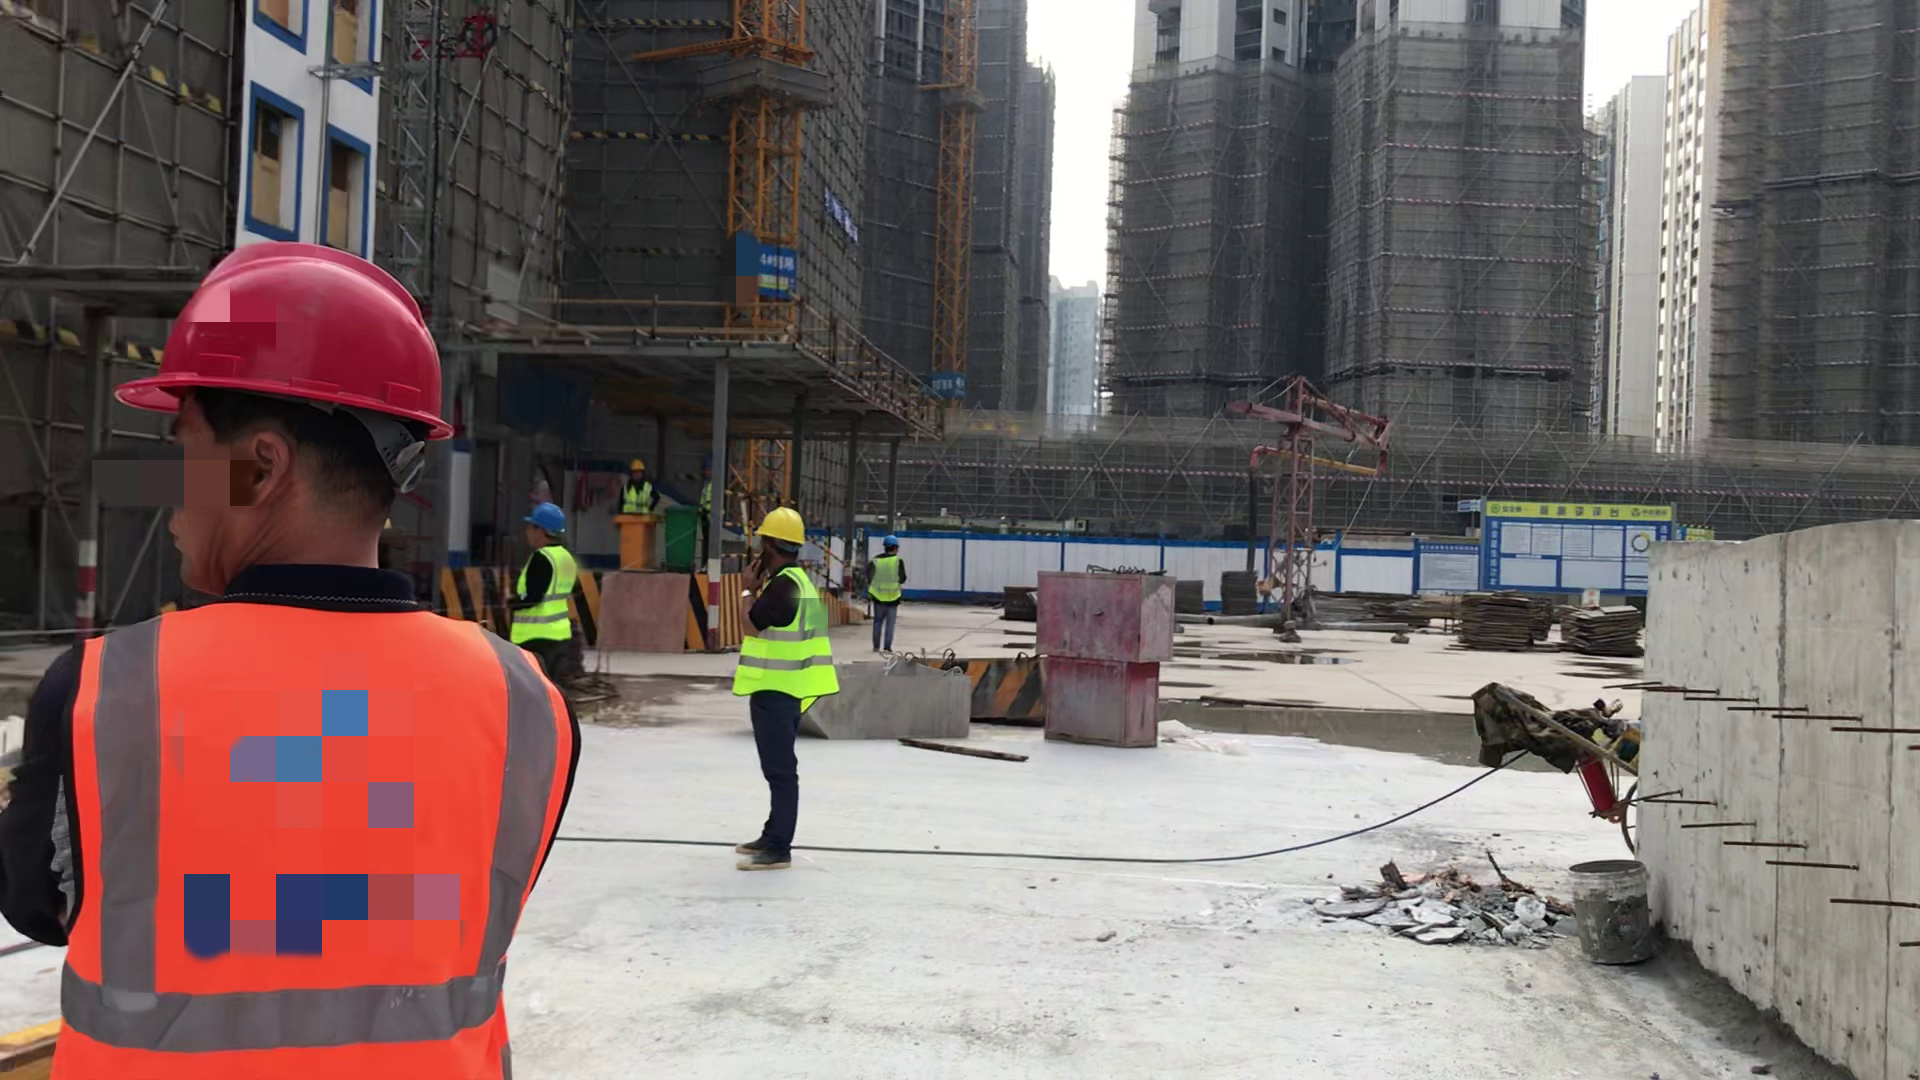helmet: (92, 239, 478, 464), (749, 503, 811, 556), (524, 500, 566, 537), (625, 456, 643, 477), (882, 532, 900, 553)
person: (13, 222, 576, 1079), (735, 501, 820, 880), (503, 498, 591, 689), (868, 534, 925, 638), (614, 456, 664, 527)
vest: (47, 609, 565, 1080), (745, 566, 872, 728), (502, 542, 589, 649), (874, 550, 904, 608), (696, 477, 714, 528)
